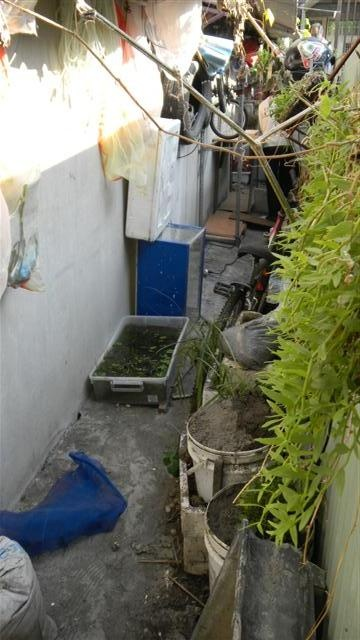aquarium: (133, 221, 207, 331)
box: (89, 314, 191, 412)
styrofoam: (125, 117, 181, 245)
